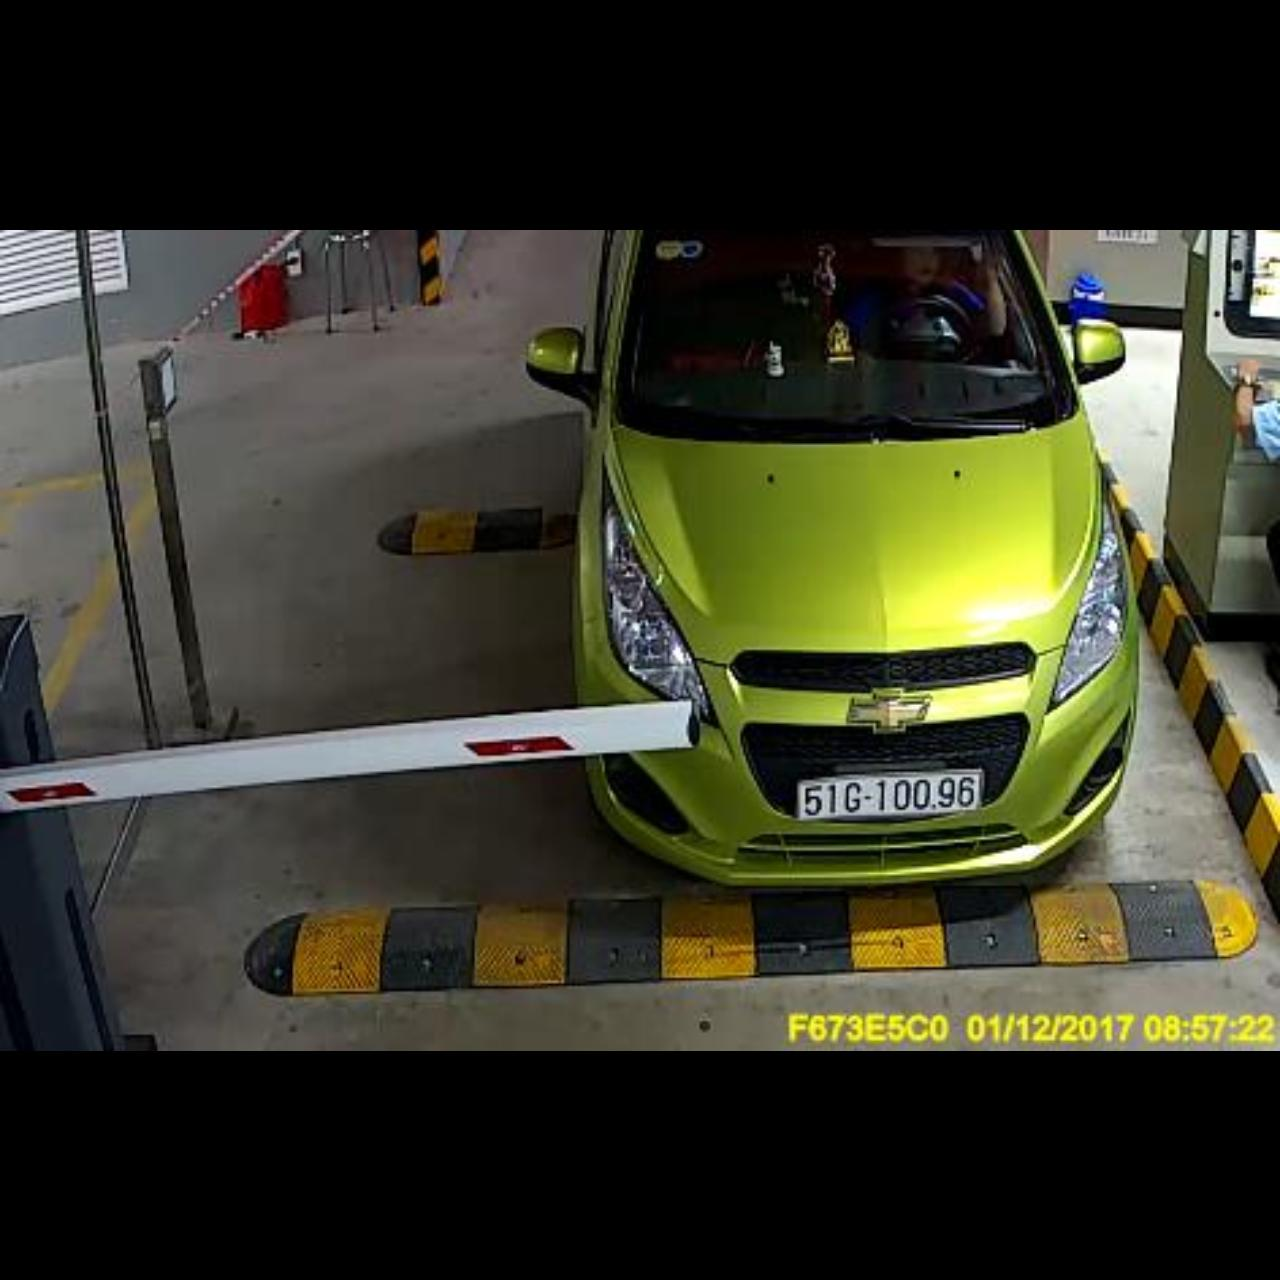bienso: (793, 765, 985, 823)
